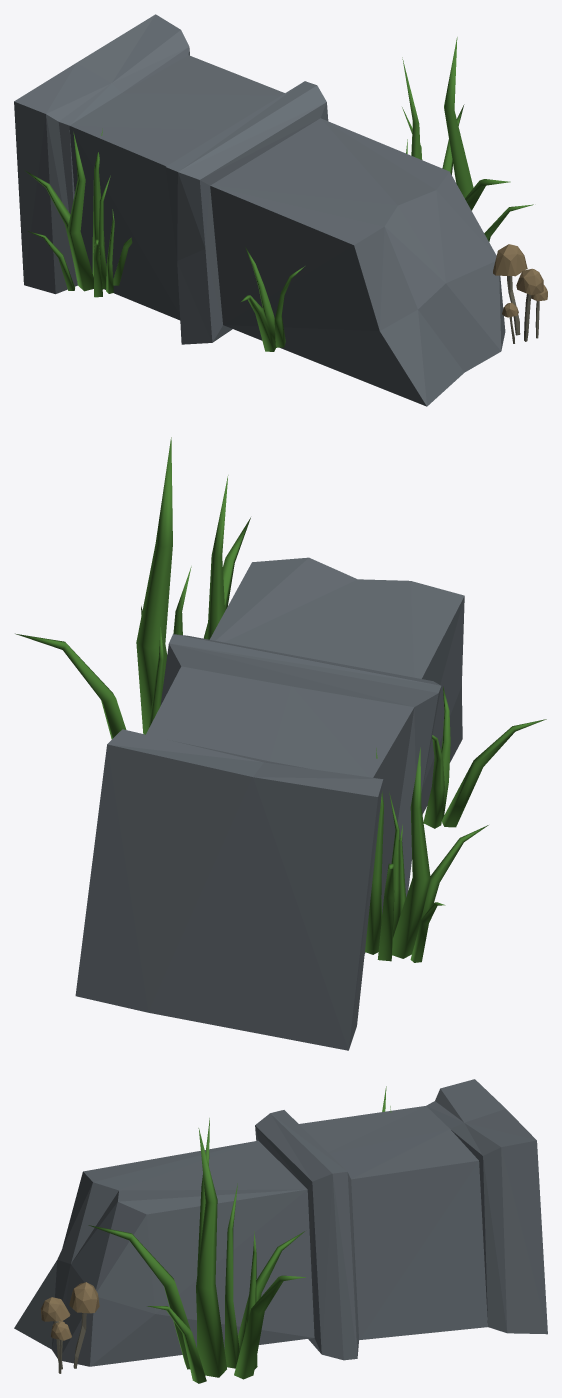
Rendered from ruin#001.glb.
3 renders of one model, top to bottom at view 1: azimuth 30°, elevation 25°; view 2: azimuth 150°, elevation 25°; view 3: azimuth 270°, elevation 25°, orthographic. The views are drawn at different scales.
Visible parts, largest first — view 1: Ruins3.001; view 2: Ruins3.001; view 3: Ruins3.001.
Boxes of the visible parts, x1,y1,x2,y2 form: Ruins3.001: (14,14,547,406); Ruins3.001: (15,437,546,1050); Ruins3.001: (14,1079,547,1383).
Bounding box in the file's own units: 3.05 × 2.21 × 3.81.
